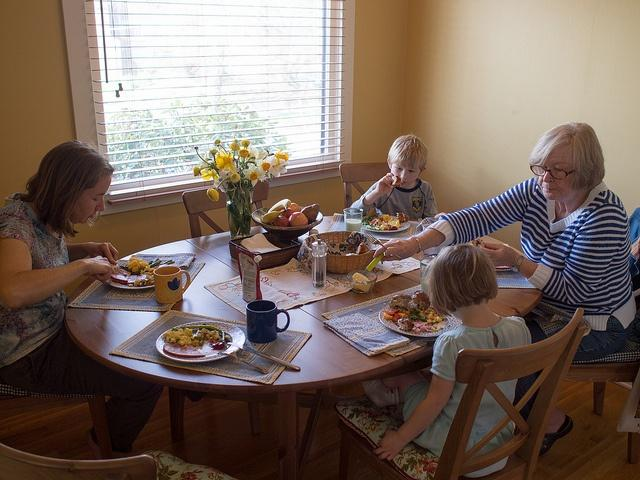Kursi: (332, 304, 587, 479)
Meja: (62, 212, 549, 392)
